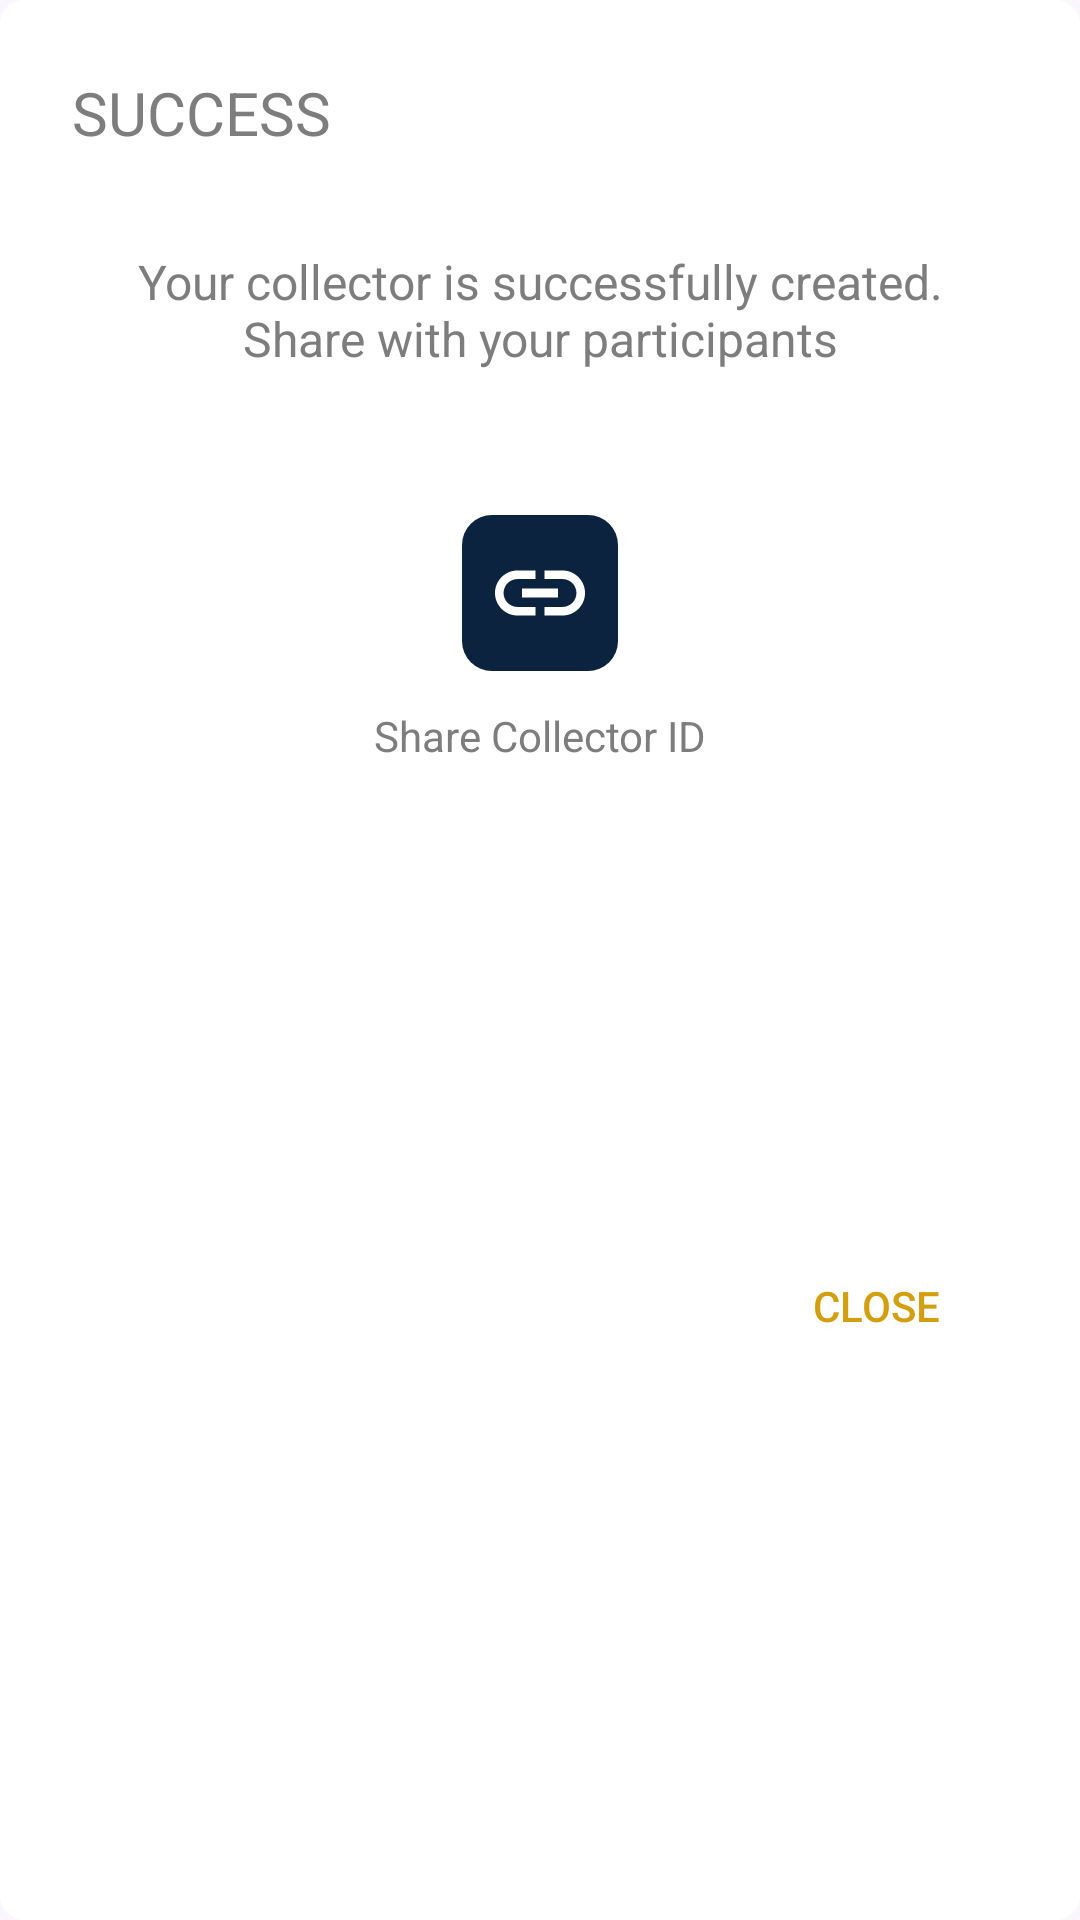

Icons on this 1080px×1920px Android screen, each with the point to tap as point (x, y):
link: point (540, 593)
